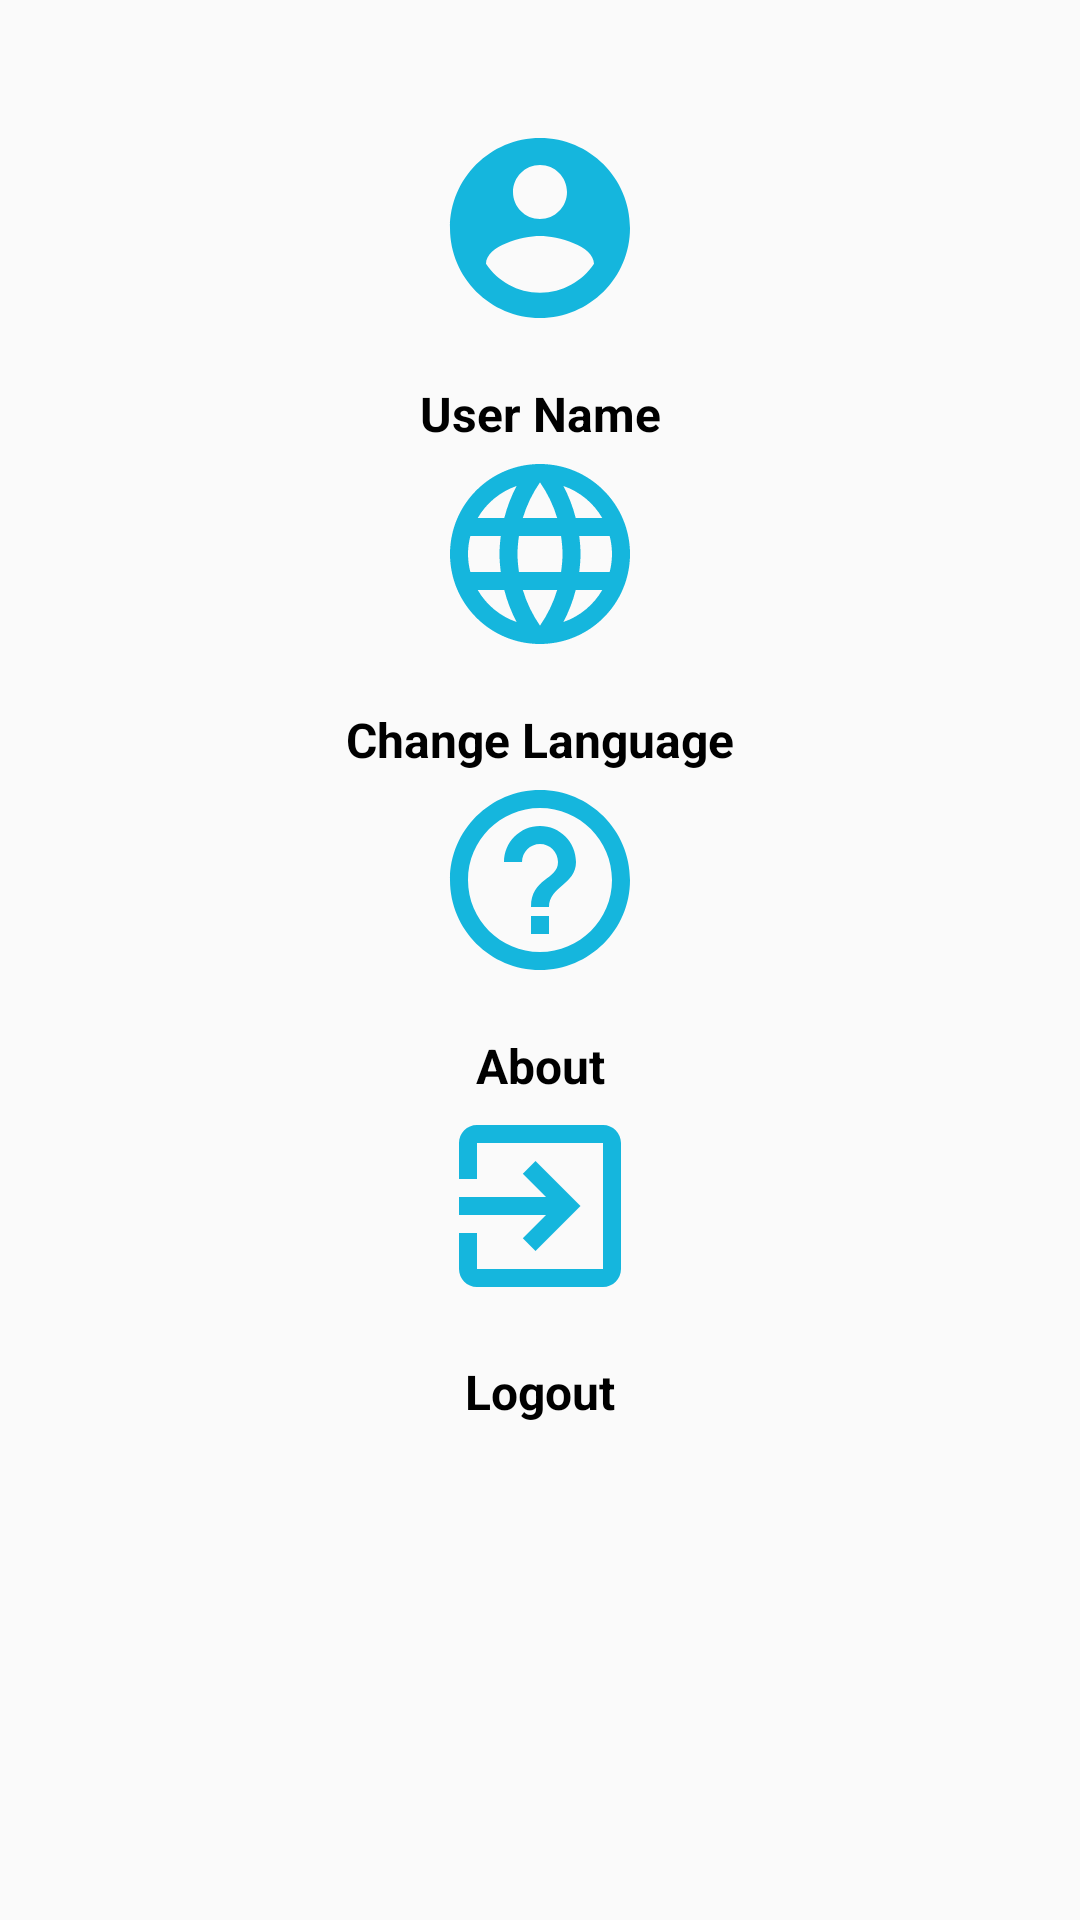

Named icons in this screenshot (1080px×1920px) and their centers, (x=x, y=y):
account: (x=539, y=228)
exit: (x=540, y=1206)
help: (x=540, y=880)
